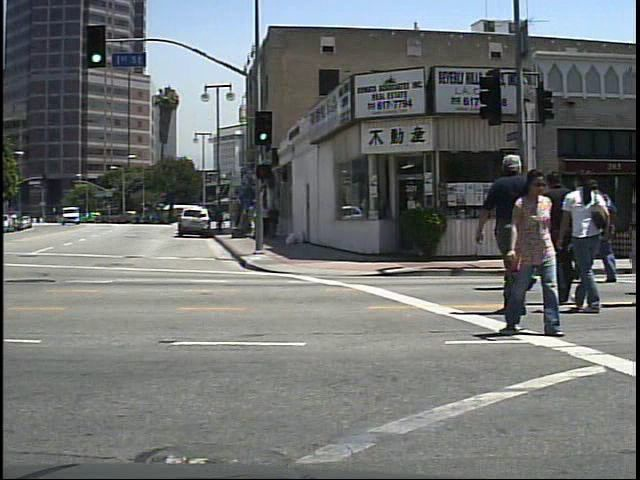person: (502, 167, 569, 341), (491, 148, 551, 322), (567, 161, 617, 318)
